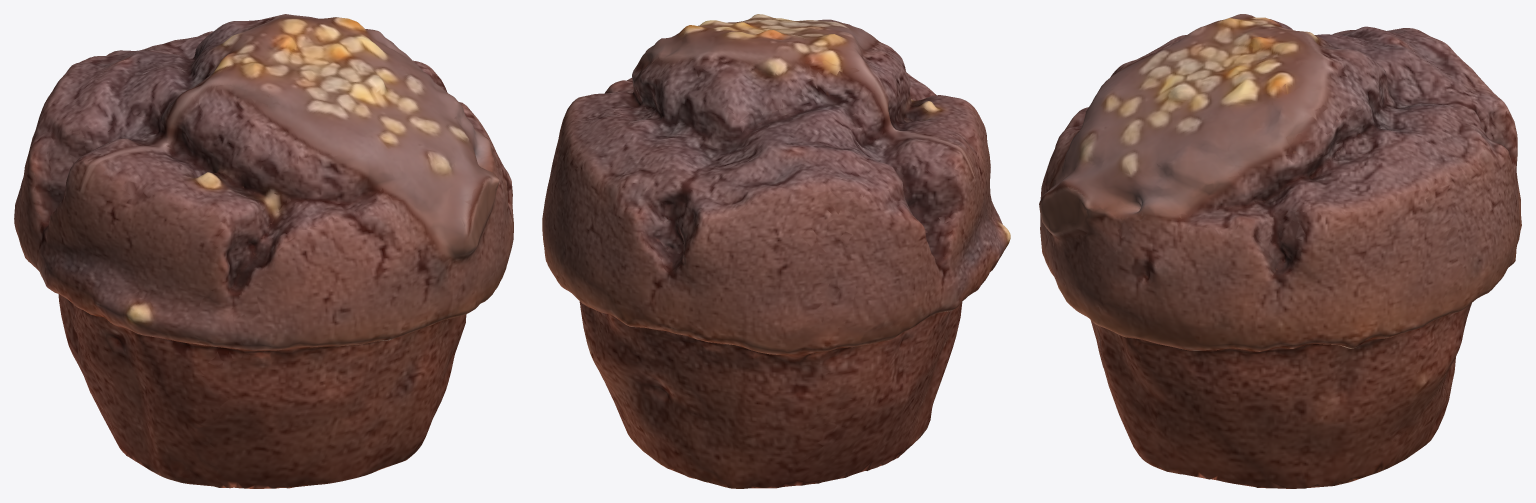
The model's file is muffin_19234.obj.
The picture shows the model from 3 angles, left to right: view 1: azimuth 30°, elevation 25°; view 2: azimuth 150°, elevation 25°; view 3: azimuth 270°, elevation 25°; orthographic projection. The views are drawn at different scales.
Size of the model in its own units: 14.21 by 13.01 by 14.4.
1 material, 1 textured.
